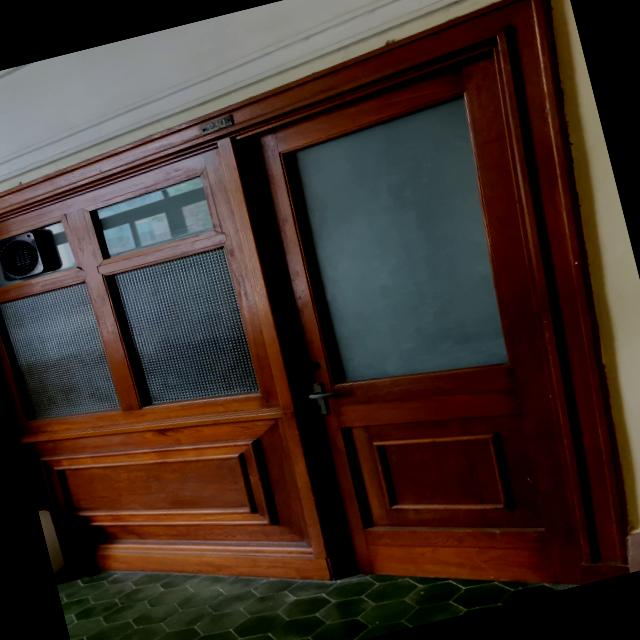room230: (196, 113, 236, 137)
